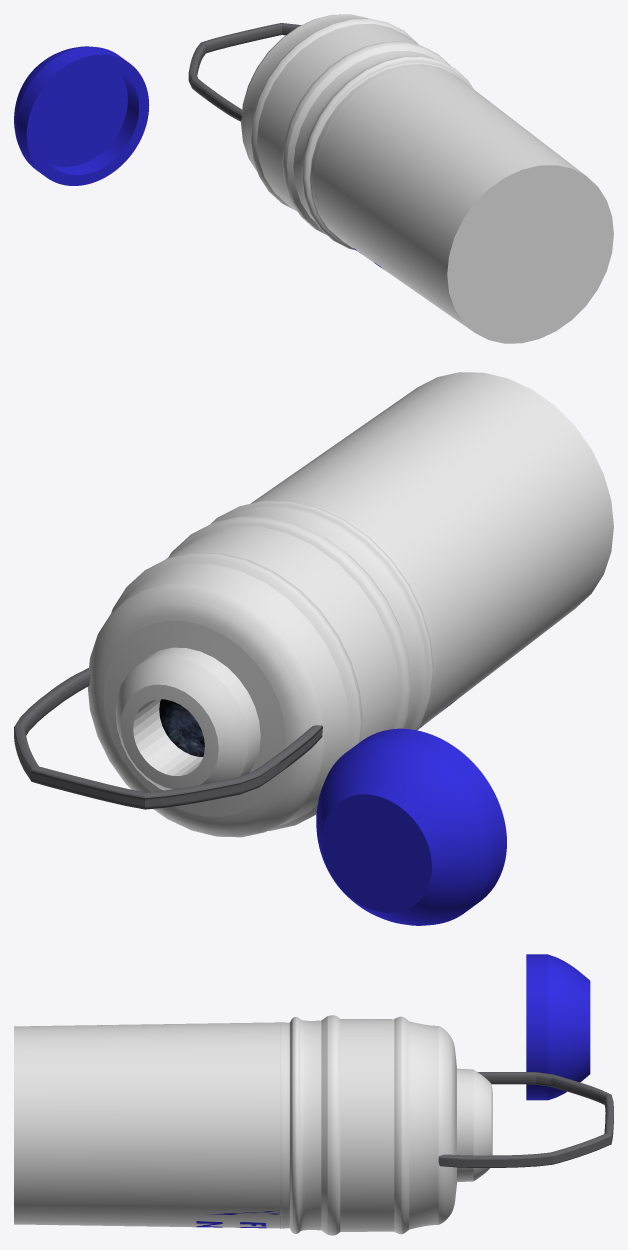
Rendered from NitrogenCanister2.FBX.
The picture shows the model from 3 angles, top to bottom: view 1: azimuth 30°, elevation 25°; view 2: azimuth 150°, elevation 25°; view 3: azimuth 270°, elevation 25°; orthographic projection. The views are drawn at different scales.
Parts seen in each view (by area): view 1: Canister, lokk, Line001; view 2: Canister, lokk, Line001, Circle001; view 3: Canister, lokk, Line001.
Part boxes in pixels (box(x1,y1,x2,y2)): Canister: box(241, 14, 613, 343); lokk: box(14, 46, 149, 185); Line001: box(188, 23, 300, 121); Canister: box(87, 372, 613, 837); lokk: box(316, 728, 506, 925); Line001: box(14, 668, 322, 809); Circle001: box(159, 699, 204, 756); Canister: box(14, 1015, 492, 1235); lokk: box(526, 954, 590, 1100); Line001: box(438, 1072, 613, 1167).
Bounding box in the file's own units: 49.02 × 25.94 × 70.79.
5 materials, 5 textured.
